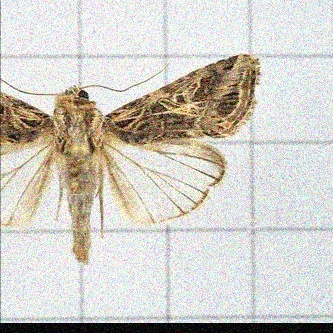Spodoptera litura: (1, 54, 263, 269)
